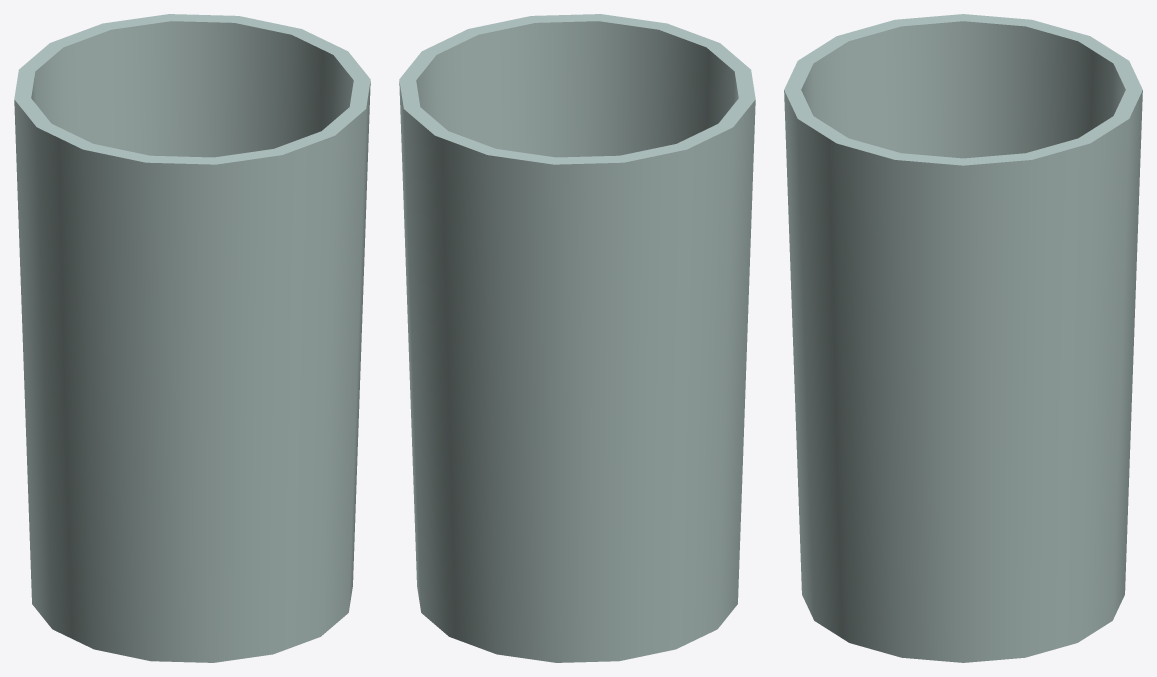
Rendered from SM_Glass_001.fbx.
3 renders of one model, left to right at view 1: azimuth 30°, elevation 25°; view 2: azimuth 150°, elevation 25°; view 3: azimuth 270°, elevation 25°, orthographic.
Parts seen in each view (by area): view 1: Cylinder; view 2: Cylinder; view 3: Cylinder.
Boxes of the visible parts, box(x1,y1,x2,y2) form: Cylinder: box(14, 14, 370, 662); Cylinder: box(399, 14, 755, 662); Cylinder: box(784, 14, 1142, 662).
Bounding box in the file's own units: 0.0649 × 0.1008 × 0.0649.
